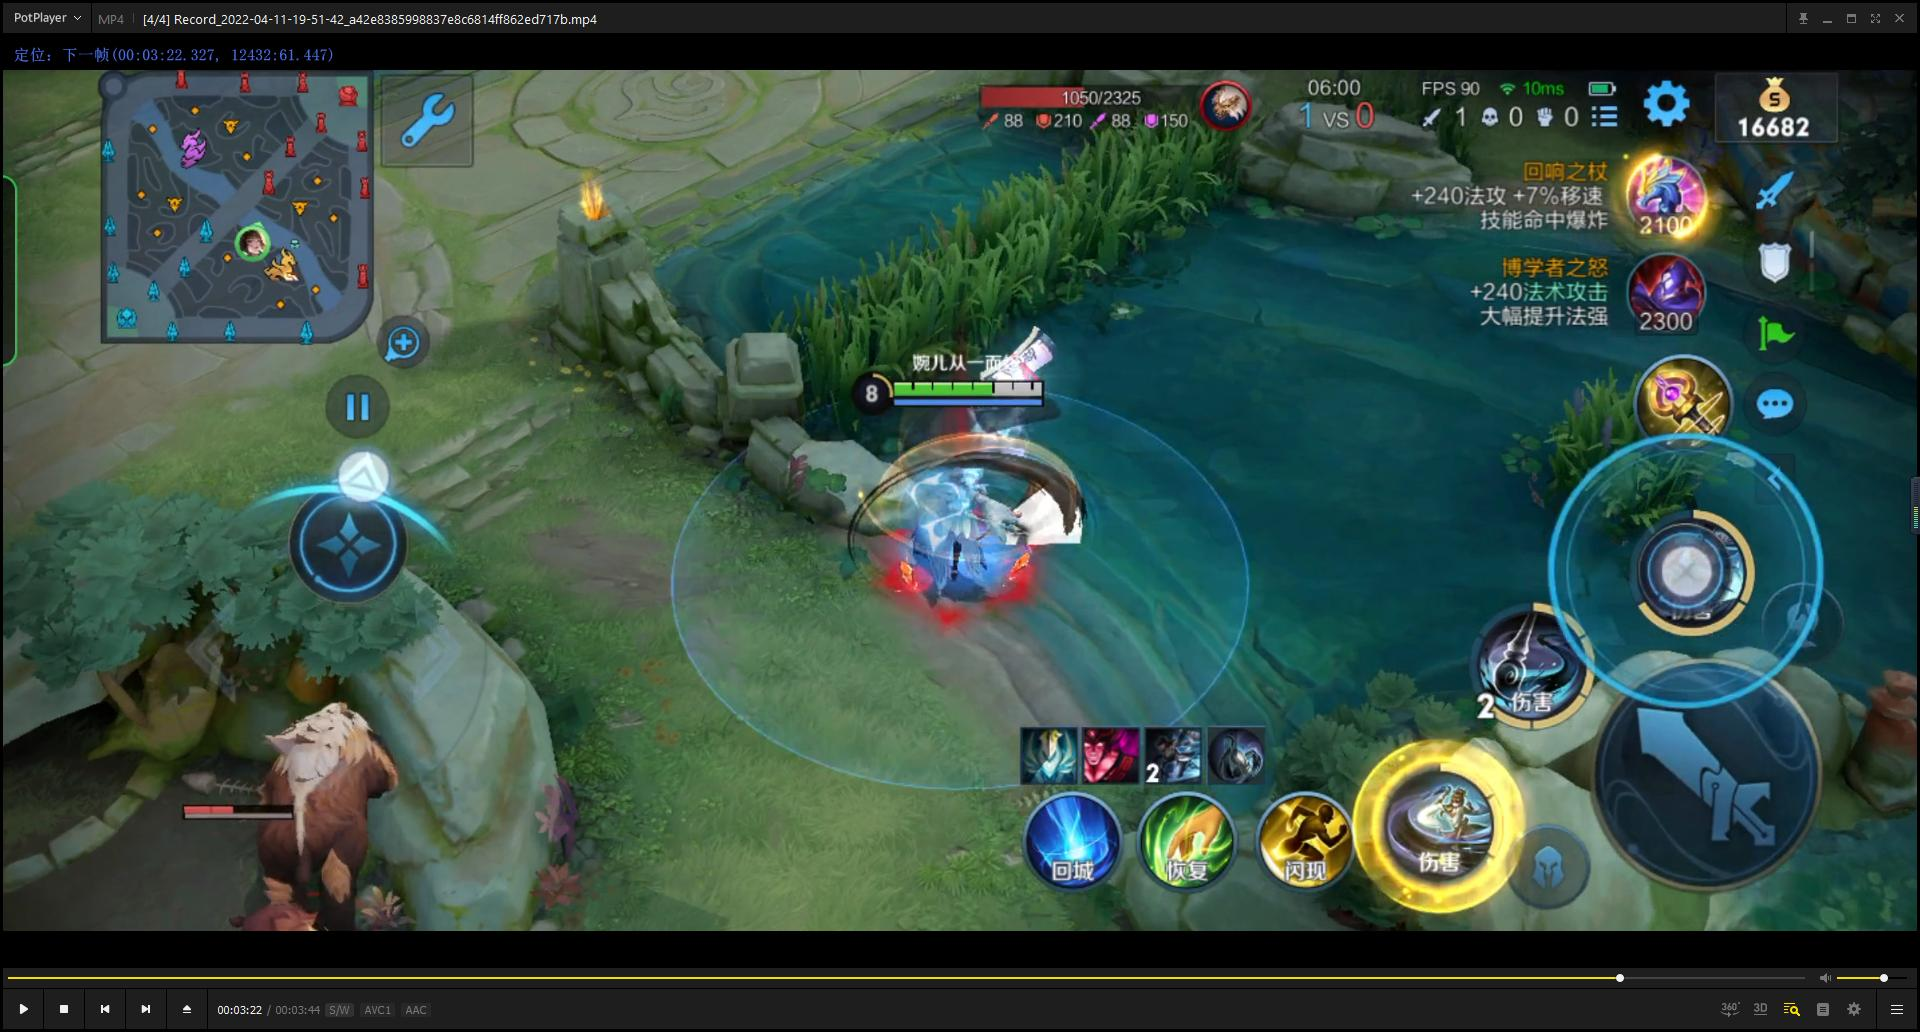Hero: (853, 430, 1081, 637)
Pig: (182, 663, 454, 920)
